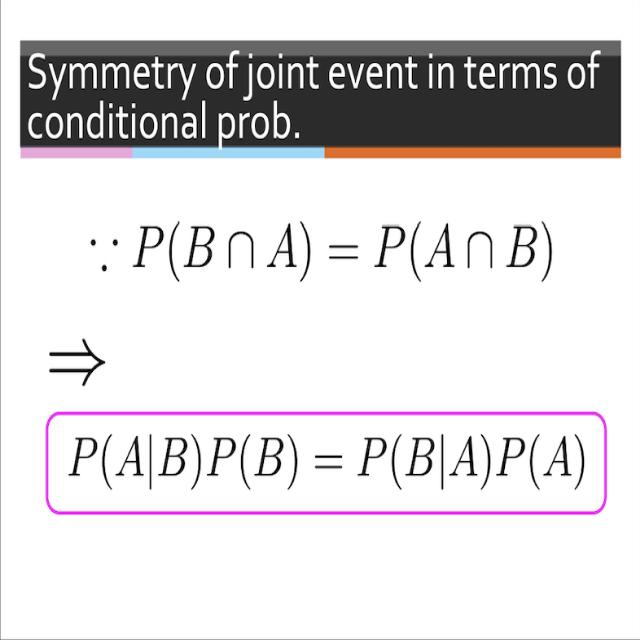equations: (81, 206, 568, 294), (63, 422, 588, 498)
